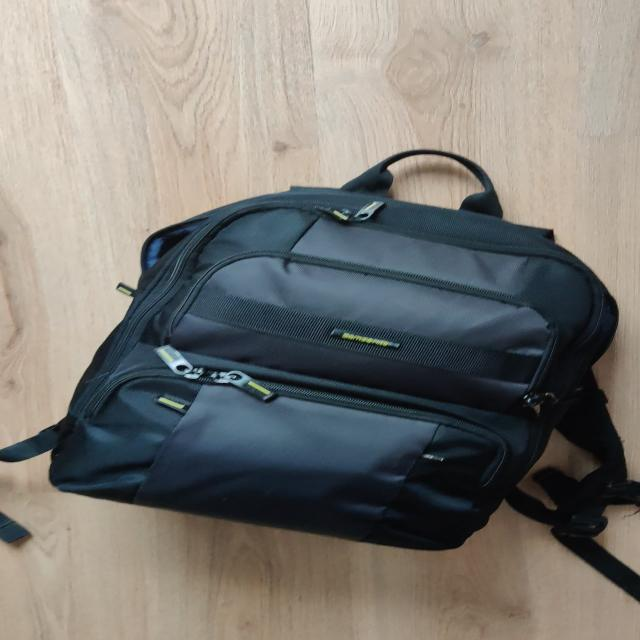backpack: (1, 144, 640, 560)
